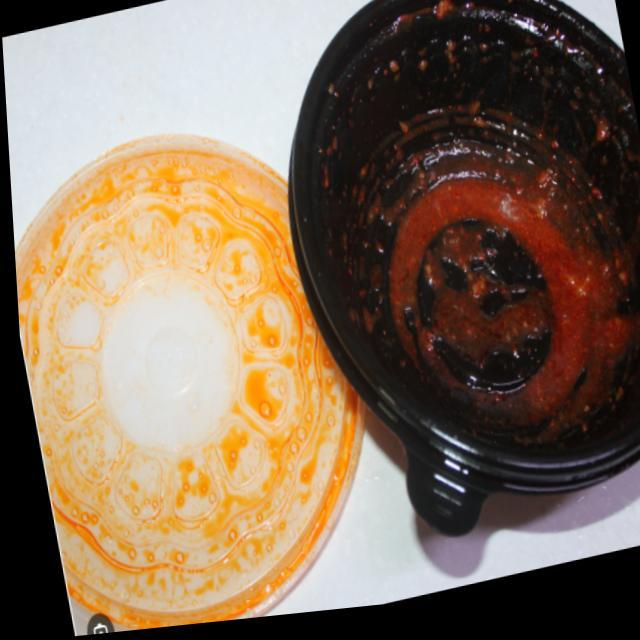container: (254, 0, 640, 586)
